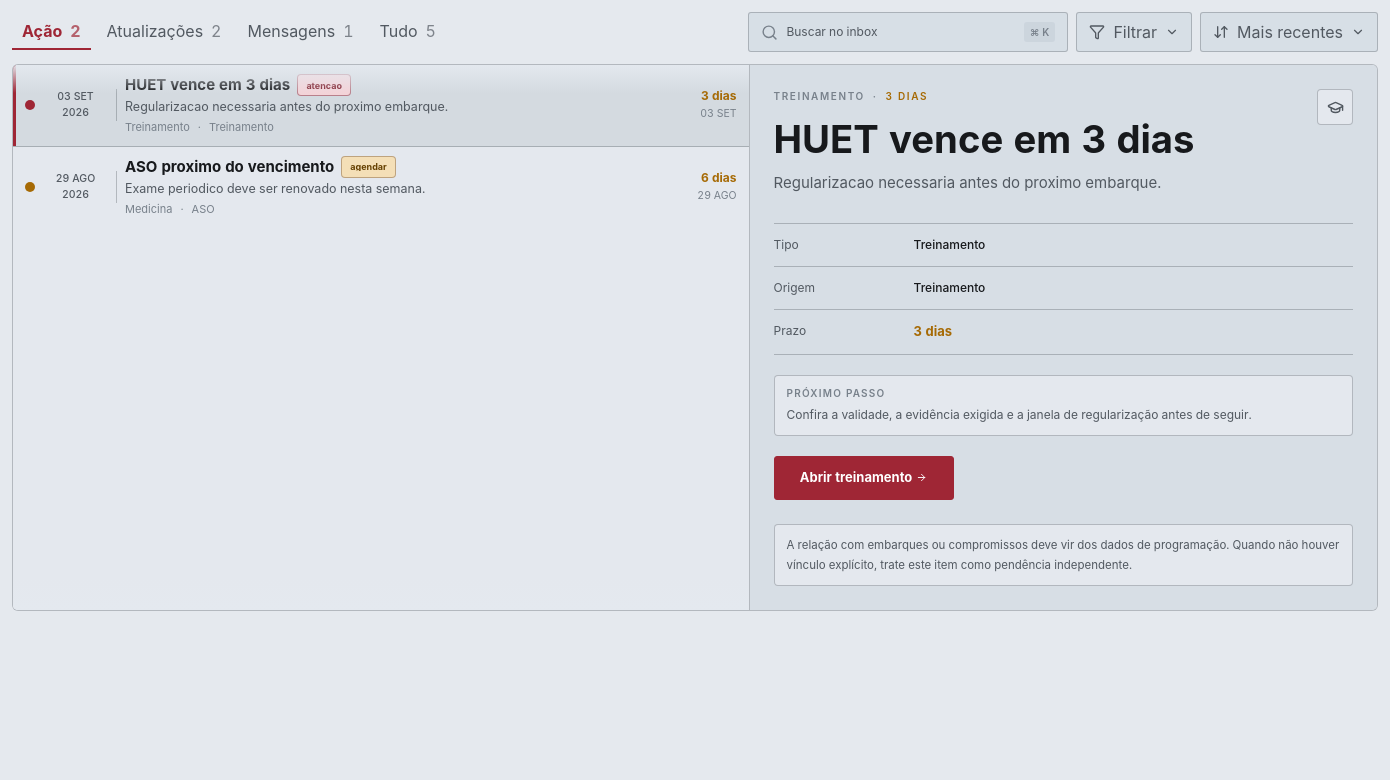
it: InboxPage › keeps filters outside the scrollable inbox list and filters visible rows
Expected: the text "HUET vence em 3 dias" is shown, [125,75,290,95]
Expected: the text "ASO proximo do vencimento" is shown, [125,156,334,176]
Step 1. Click the button "Tudo 5" → x=408, y=32, box [370,14,446,50]
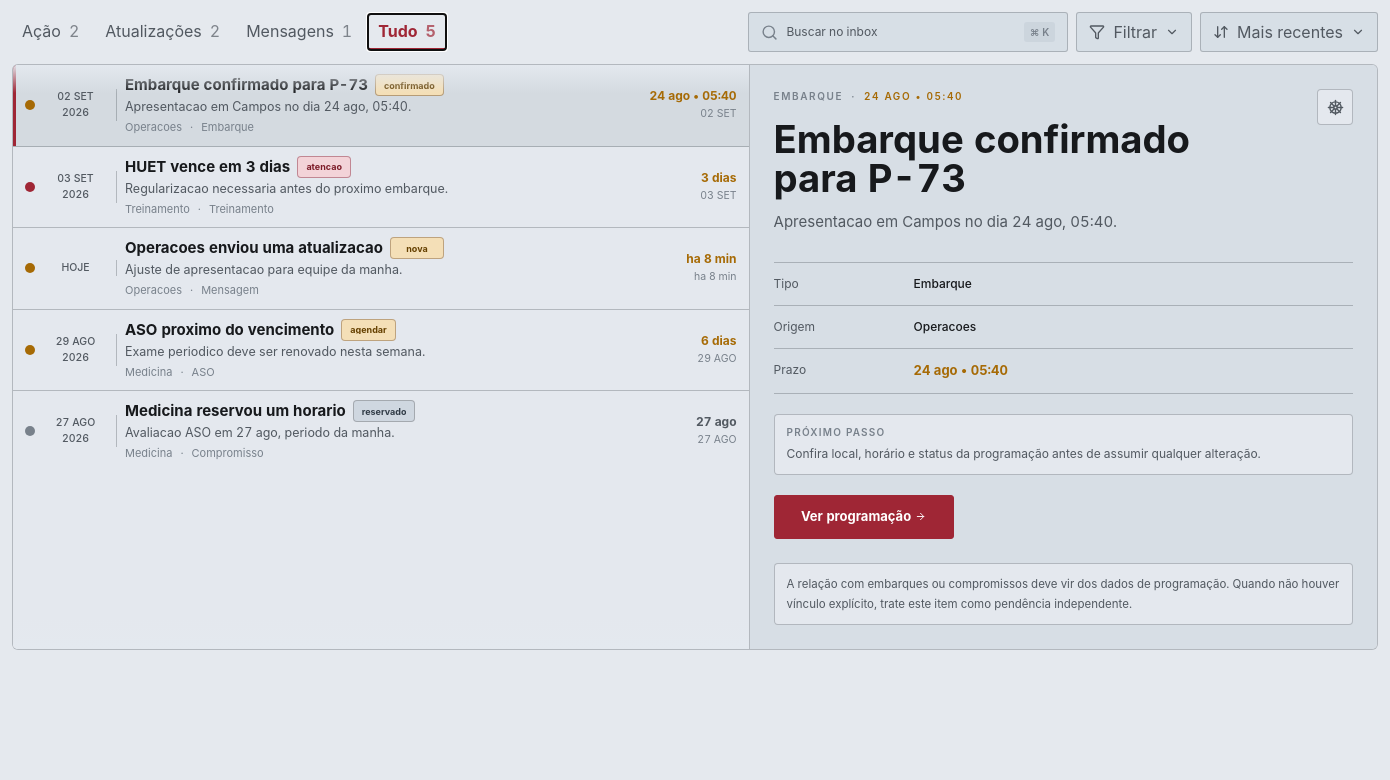
Now the text "Embarque confirmado para P-73" is shown, box [125,75,368,95]
Step 2. Click the button "Mensagens 1" → x=299, y=32, box [236,14,362,50]
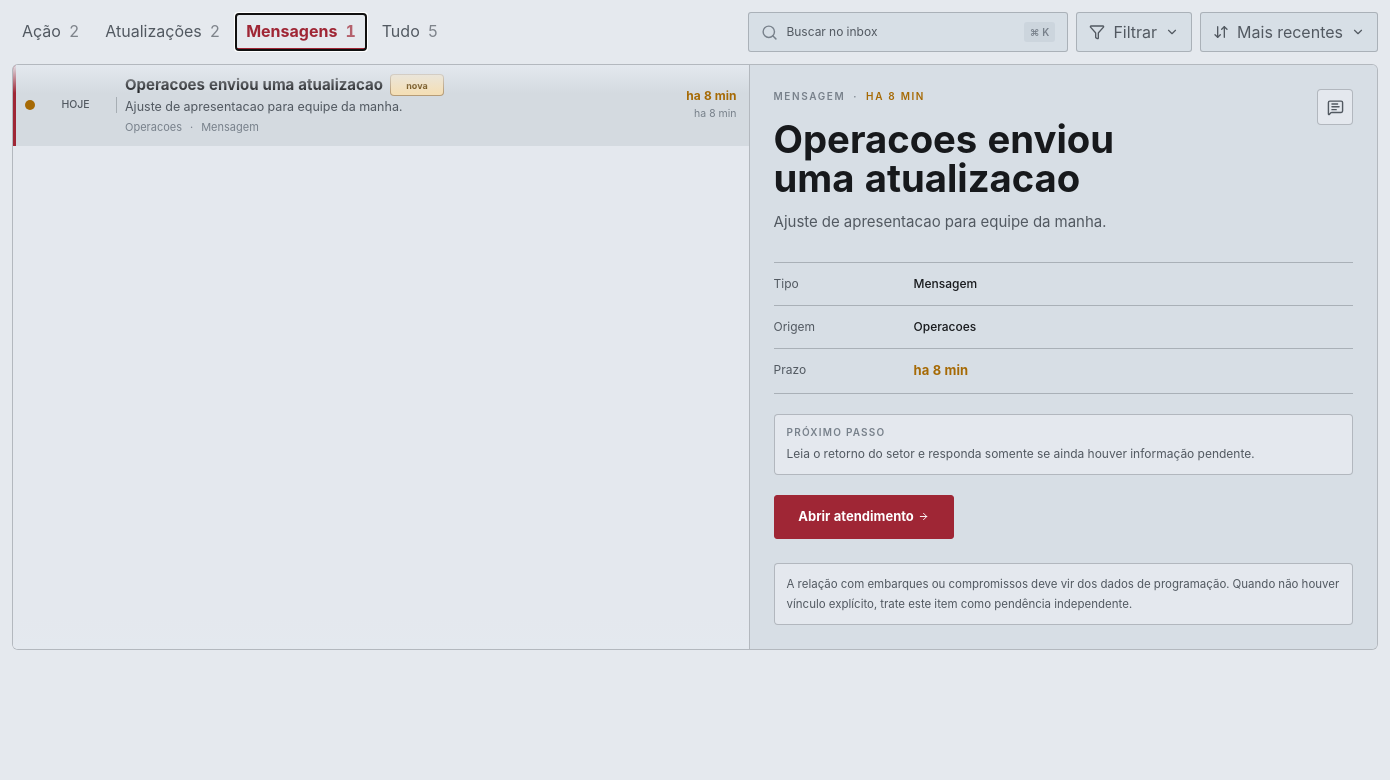
Now the text "Operacoes enviou uma atualizacao" is shown, box [125,75,383,95]
Now the text "Embarque confirmado para P-73" is gone
